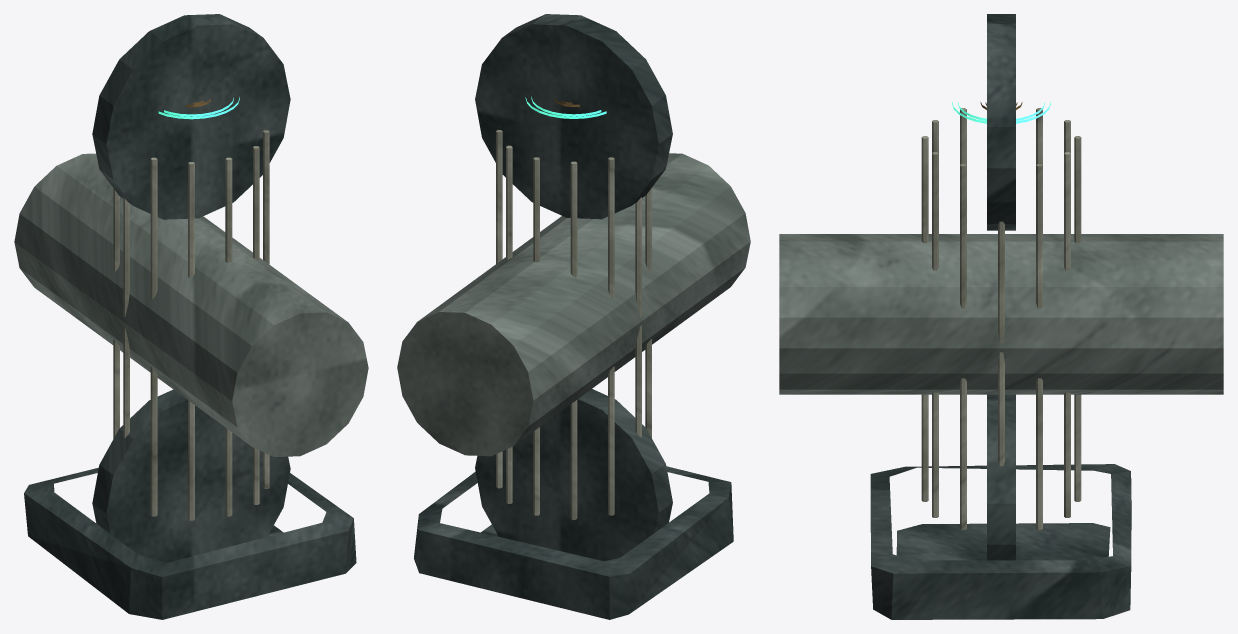
Rendered from 0290_fluted_column_15.glb.
3 views of the same model, side by side, from view 1: azimuth 30°, elevation 25°; view 2: azimuth 150°, elevation 25°; view 3: azimuth 270°, elevation 25° (orthographic). The views are drawn at different scales.
Visible parts, largest first — view 1: stone_dark, stone, stone_light; view 2: stone_dark, stone, stone_light; view 3: stone, stone_dark, stone_light.
Boxes of the visible parts, bbox=[...] form: stone_dark: bbox=[24, 14, 356, 619]; stone: bbox=[14, 153, 368, 456]; stone_light: bbox=[113, 130, 269, 520]; stone_dark: bbox=[414, 14, 733, 619]; stone: bbox=[397, 153, 750, 456]; stone_light: bbox=[496, 130, 651, 519]; stone: bbox=[779, 234, 1223, 394]; stone_dark: bbox=[870, 14, 1131, 619]; stone_light: bbox=[921, 108, 1081, 529].
Bounding box in the file's own units: 1.28 × 3.07 × 2.16.
5 materials, 5 textured.
